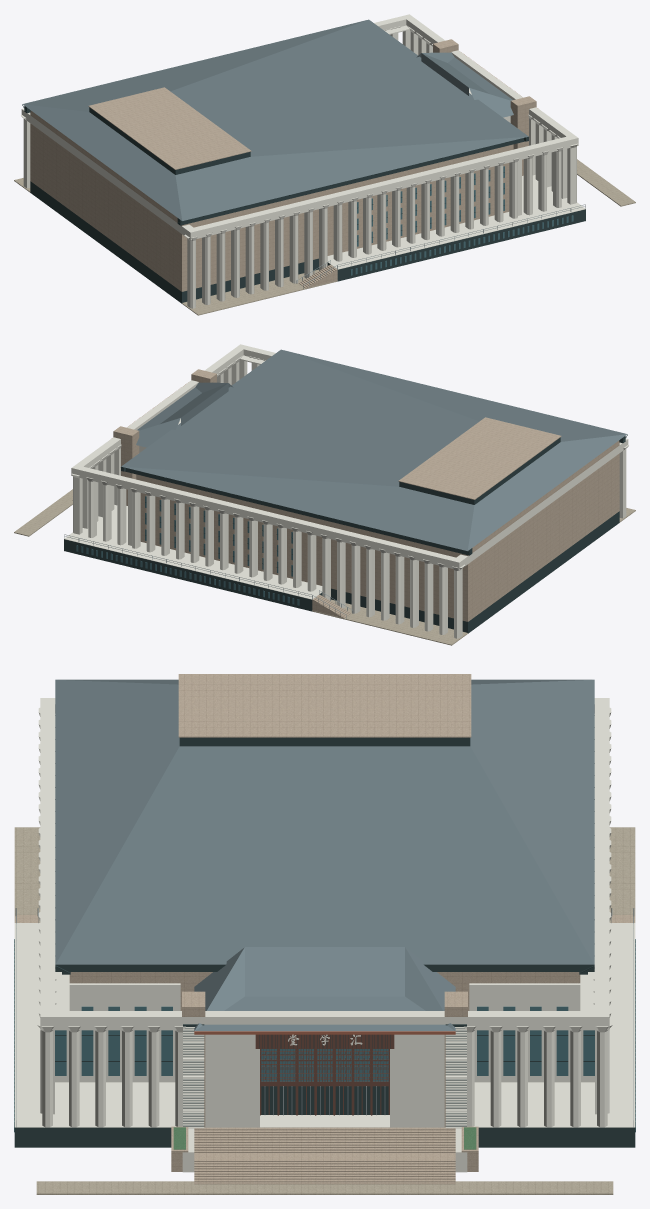
File: huixue.glb
The picture shows the model from 3 angles, top to bottom: view 1: azimuth 30°, elevation 25°; view 2: azimuth 150°, elevation 25°; view 3: azimuth 270°, elevation 25°; orthographic projection. The views are drawn at different scales.
Parts seen in each view (by area): view 1: landmark-huixue; view 2: landmark-huixue; view 3: landmark-huixue.
Boxes of the visible parts, left/top/right/bottom form: landmark-huixue: left=14, top=14, right=635, bottom=315; landmark-huixue: left=14, top=344, right=635, bottom=645; landmark-huixue: left=14, top=674, right=635, bottom=1194.
Bounding box in the file's own units: 119 × 26.68 × 85.07.
10 materials, 3 textured.
